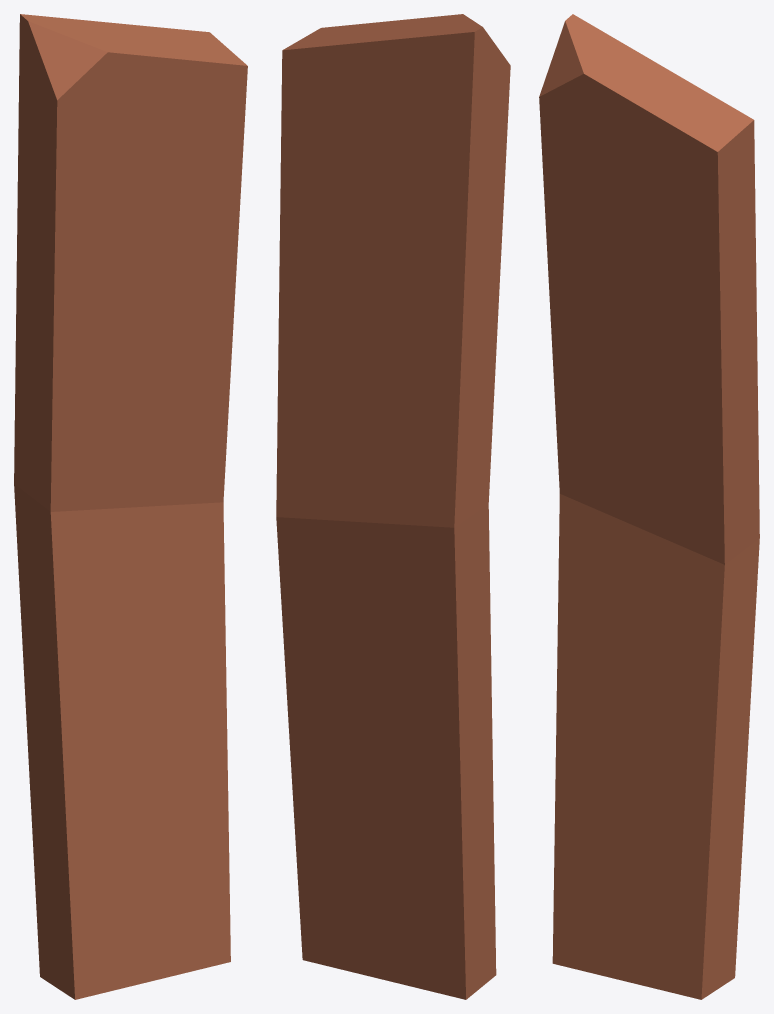
The model's file is Plank 03.fbx.
3 views of the same model, side by side, from view 1: azimuth 30°, elevation 25°; view 2: azimuth 150°, elevation 25°; view 3: azimuth 330°, elevation 25° (orthographic). The views are drawn at different scales.
Visible parts, largest first — view 1: Plank 03; view 2: Plank 03; view 3: Plank 03.
Part boxes in pixels (<box>): Plank 03: <box>14,14,247,999</box>; Plank 03: <box>276,14,510,999</box>; Plank 03: <box>539,14,759,999</box>.
Size of the model in its own units: 21.41 by 104 by 10.01.
